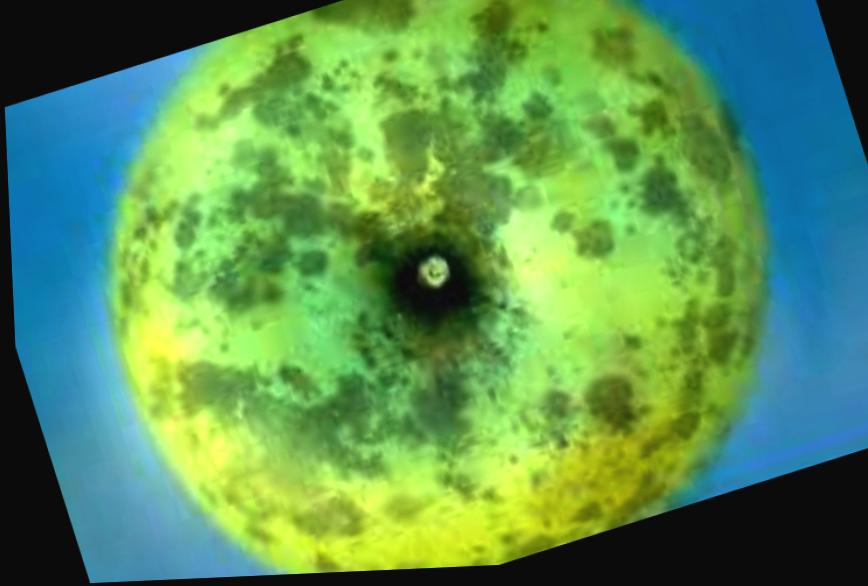BLOTCH: (1, 0, 868, 586)
